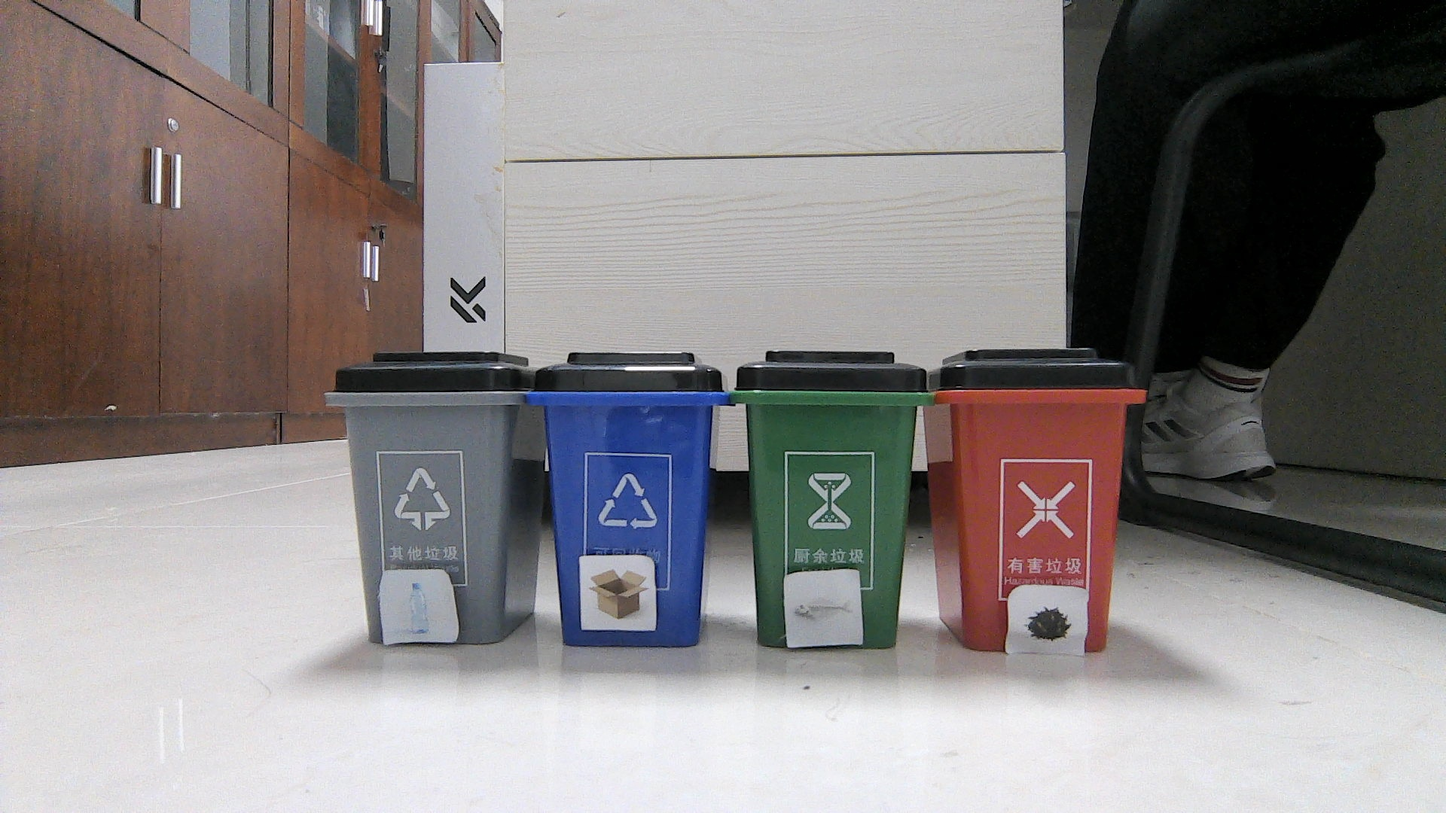food_trash: (788, 577, 855, 646), (1014, 591, 1078, 649)
recyclable_trash: (385, 574, 451, 643), (584, 559, 648, 628)
